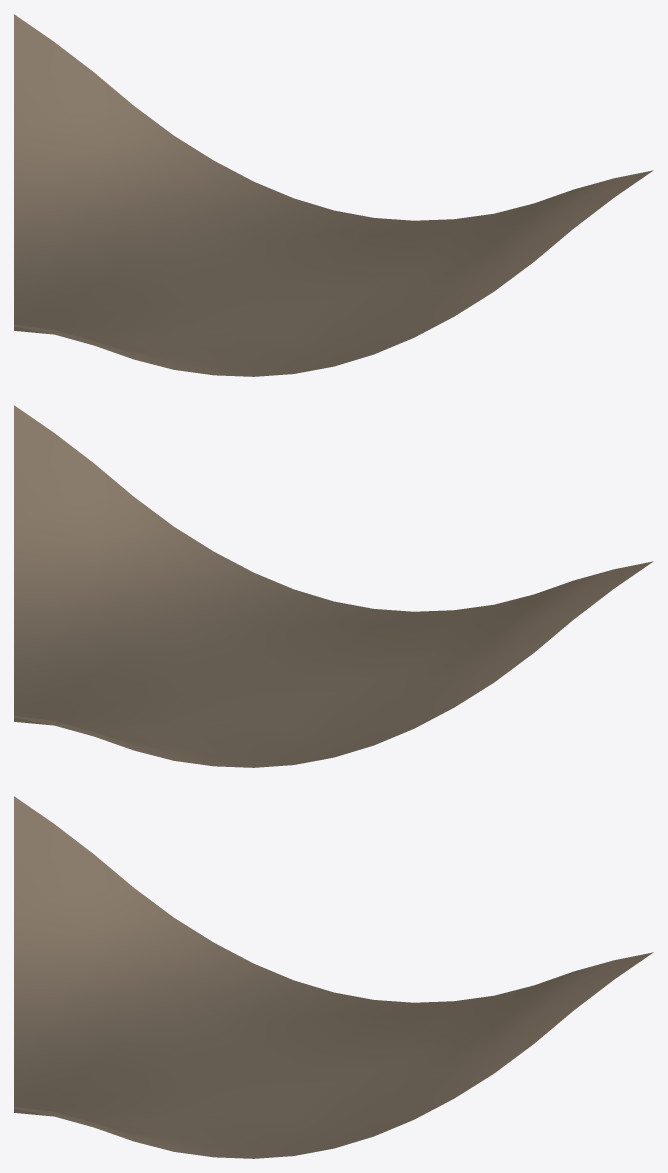
Rendered from MODULE_L2_FULL.fbx.
The picture shows the model from 3 angles, top to bottom: view 1: azimuth 30°, elevation 25°; view 2: azimuth 150°, elevation 25°; view 3: azimuth 270°, elevation 25°; orthographic projection.
Parts seen in each view (by area): view 1: MODULE_L2_FULL__export; view 2: MODULE_L2_FULL__export; view 3: MODULE_L2_FULL__export.
Part boxes in pixels (<box>): MODULE_L2_FULL__export: <box>14,14,653,376</box>; MODULE_L2_FULL__export: <box>14,405,653,767</box>; MODULE_L2_FULL__export: <box>14,796,653,1158</box>.
Bounding box in the file's own units: 100 × 17.86 × 86.6.
